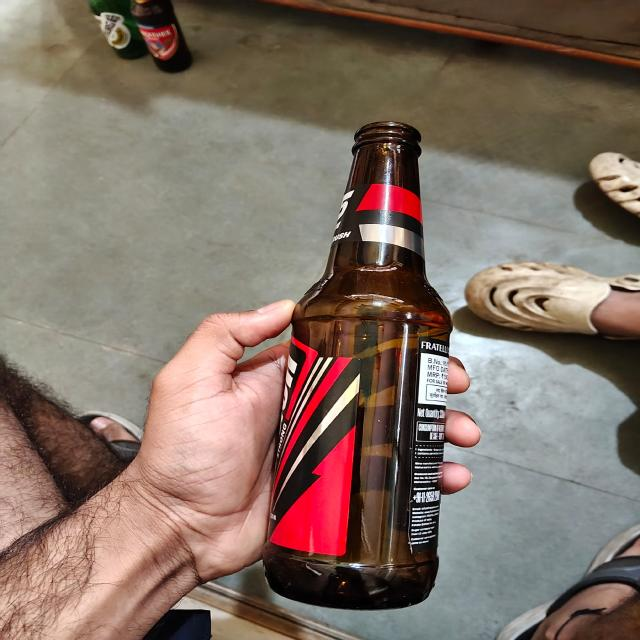Alcohol-Bottle-Detection: (283, 114, 447, 614)
